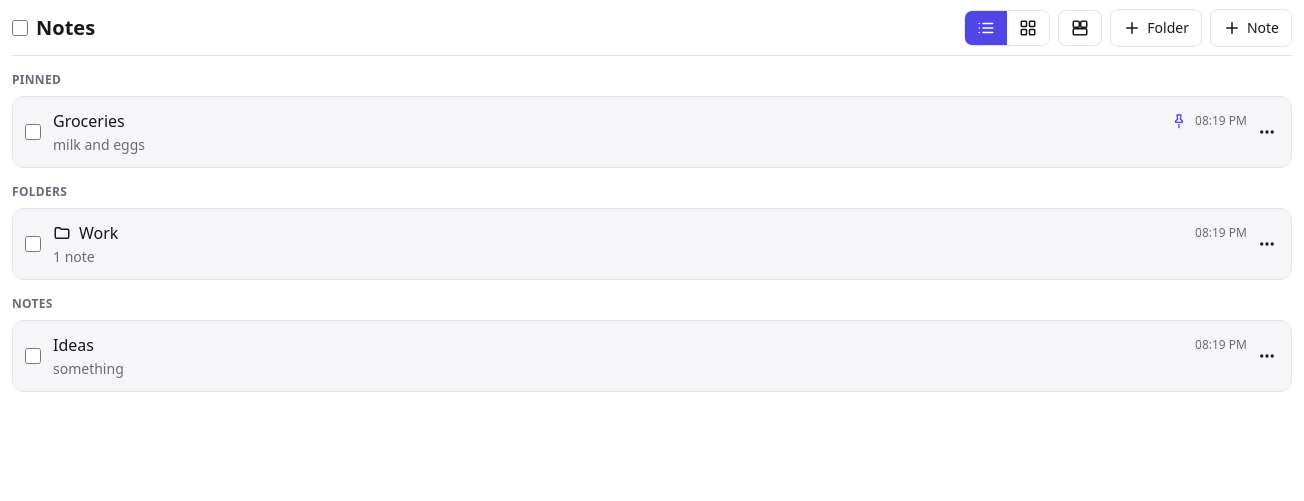
Scenario: the ⋯ options menu on each card › offers Unpin for a pinned note
Click the button named "Options for Groceries" at (1267, 132), box [1249,114,1285,150]
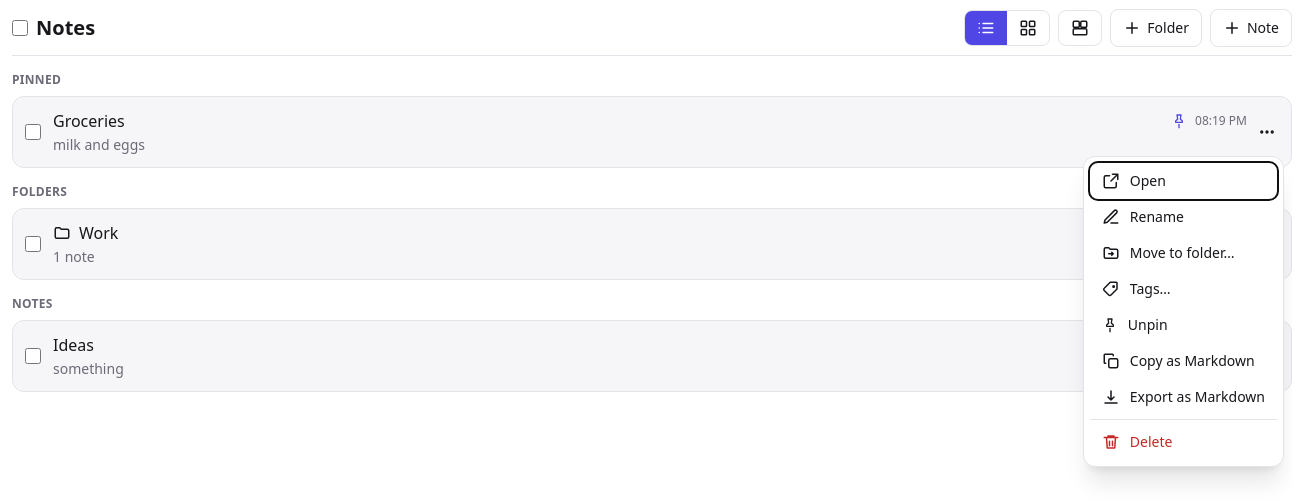
Result: the text "Unpin" is shown at [1128,315,1168,334]
